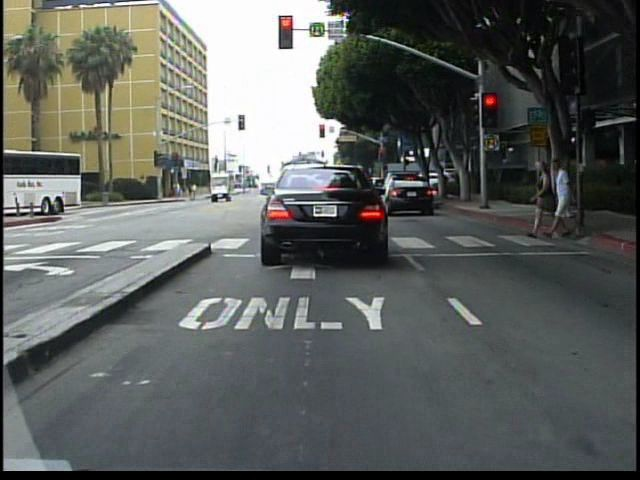person: (552, 157, 578, 243), (531, 159, 554, 240)
